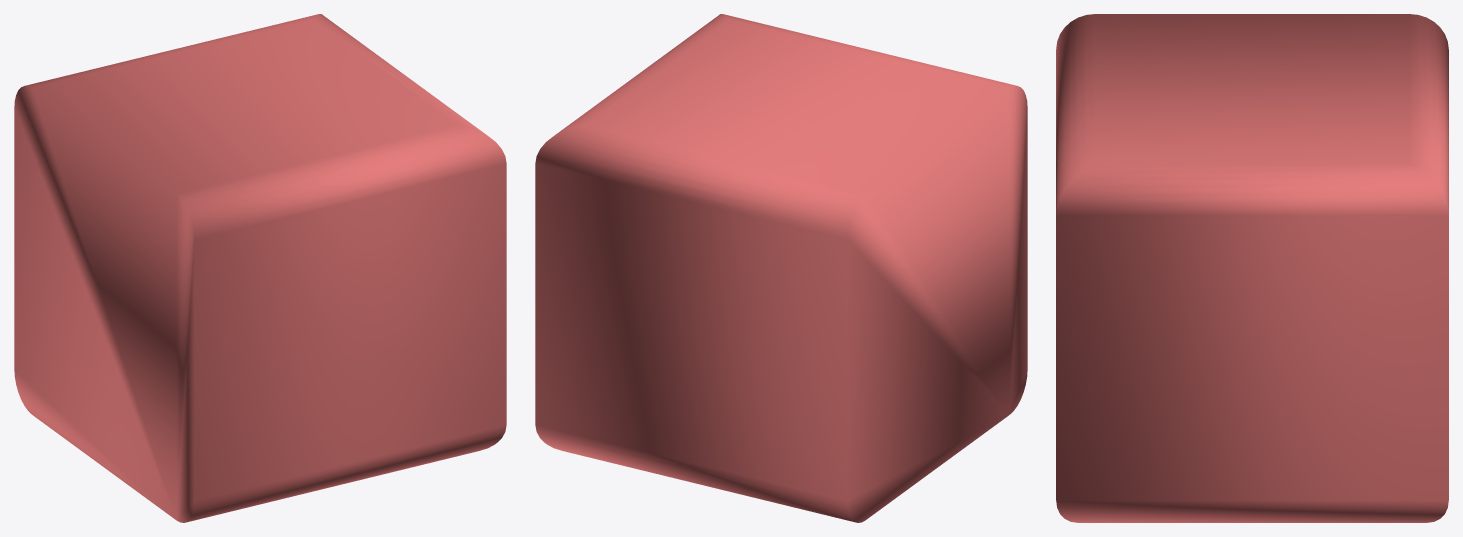
File: Platform_outside.fbx
The picture shows the model from 3 angles, left to right: view 1: azimuth 30°, elevation 25°; view 2: azimuth 150°, elevation 25°; view 3: azimuth 270°, elevation 25°; orthographic projection. The views are drawn at different scales.
Visible parts, largest first — view 1: Cube.002; view 2: Cube.002; view 3: Cube.002.
Boxes of the visible parts, x1,y1,x2,y2 form: Cube.002: (14, 14, 506, 522); Cube.002: (535, 14, 1027, 522); Cube.002: (1056, 14, 1448, 522).
Bounding box in the file's own units: 200 × 200 × 200.
